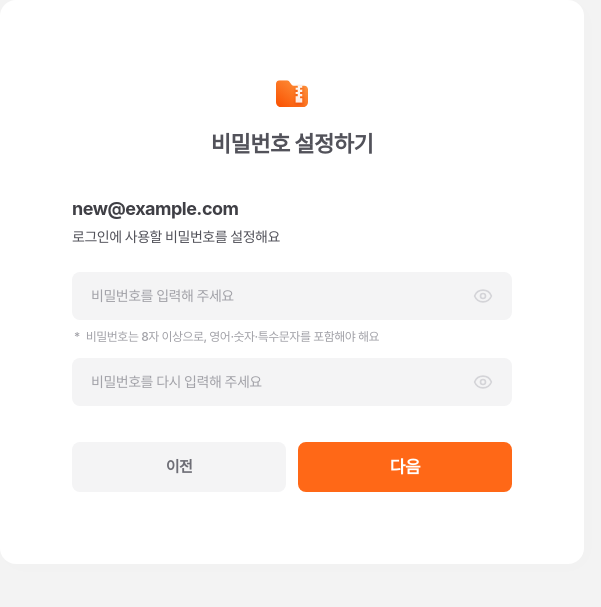
it: SignupPasswordForm › shows an error when the password confirmation does not match
The width and height of the screenshot is (601, 607).
Step 1. Type "Password1!" into the password field labelled "비밀번호" → (278, 296), box left=91, top=285, right=465, bottom=307
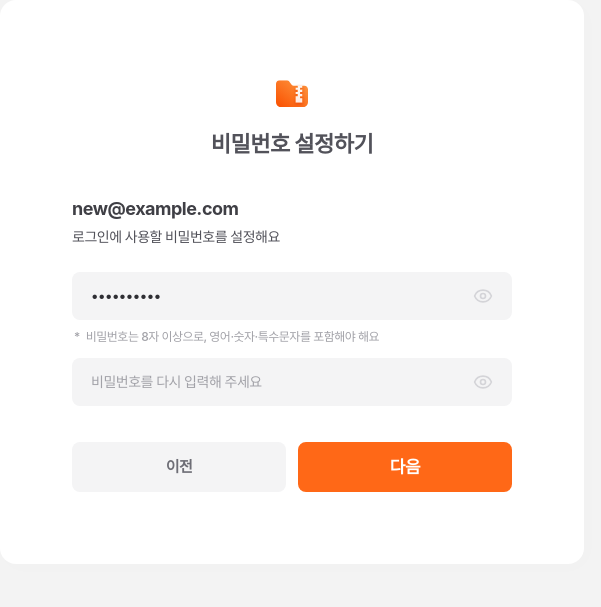
Step 2. Type "Password2!" into the password field named "비밀번호 확인" → (278, 382), box left=91, top=371, right=465, bottom=393
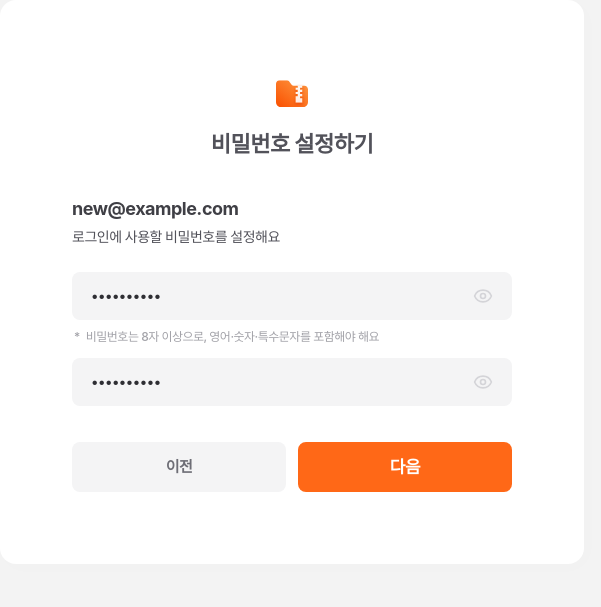
Step 3. Press Tab
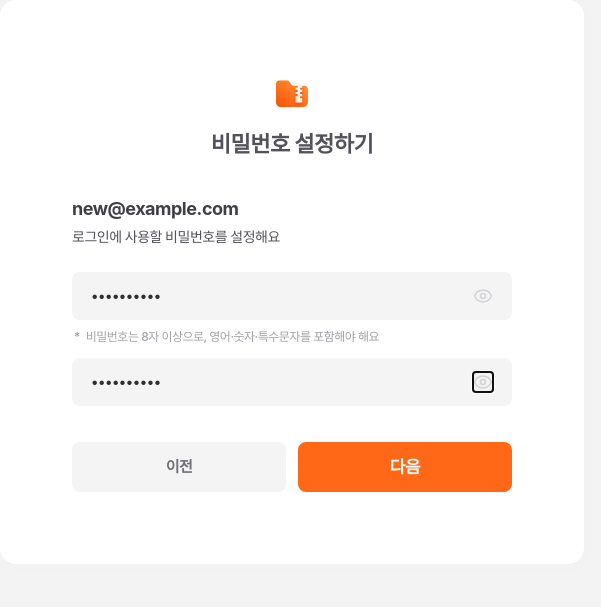
Expected: the text "비밀번호가 일치하지 않아요." is not shown
Step 4. Click the button "다음" → (405, 467), box left=298, top=442, right=512, bottom=492
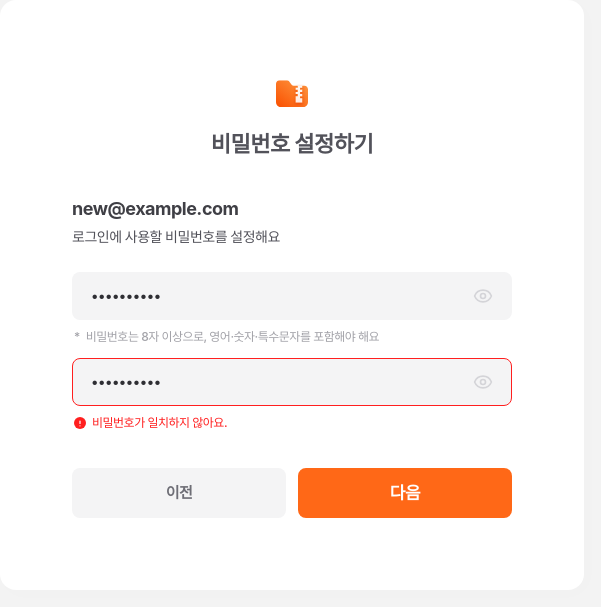
Now the message reads "비밀번호가 일치하지 않아요.", box left=92, top=415, right=227, bottom=430
